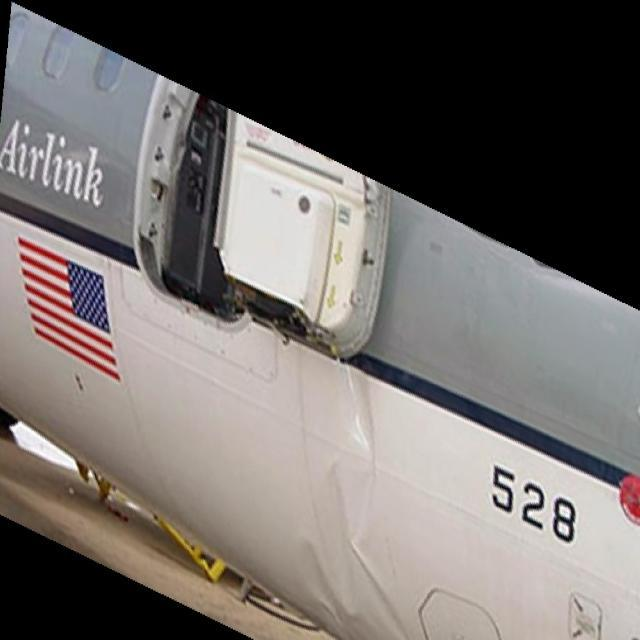dent: (299, 368, 410, 640)
